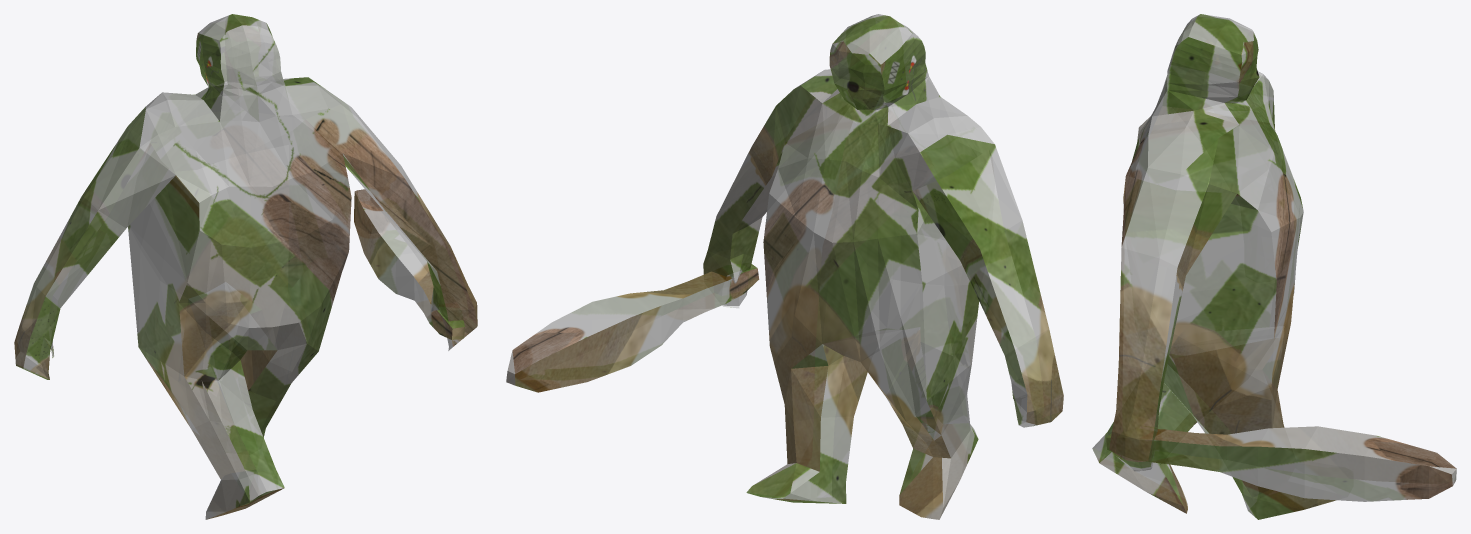
Rendered from Enemigo212.obj.
3 views of the same model, side by side, from view 1: azimuth 30°, elevation 25°; view 2: azimuth 150°, elevation 25°; view 3: azimuth 270°, elevation 25° (orthographic). The views are drawn at different scales.
Visible parts, largest first — view 1: Cube; view 2: Cube; view 3: Cube.
Part boxes in pixels (left/top/right/bottom): Cube: left=14, top=14, right=477, bottom=519; Cube: left=506, top=14, right=1063, bottom=519; Cube: left=1092, top=14, right=1456, bottom=519.
Bounding box in the file's own units: 2.76 × 2.83 × 1.85.
